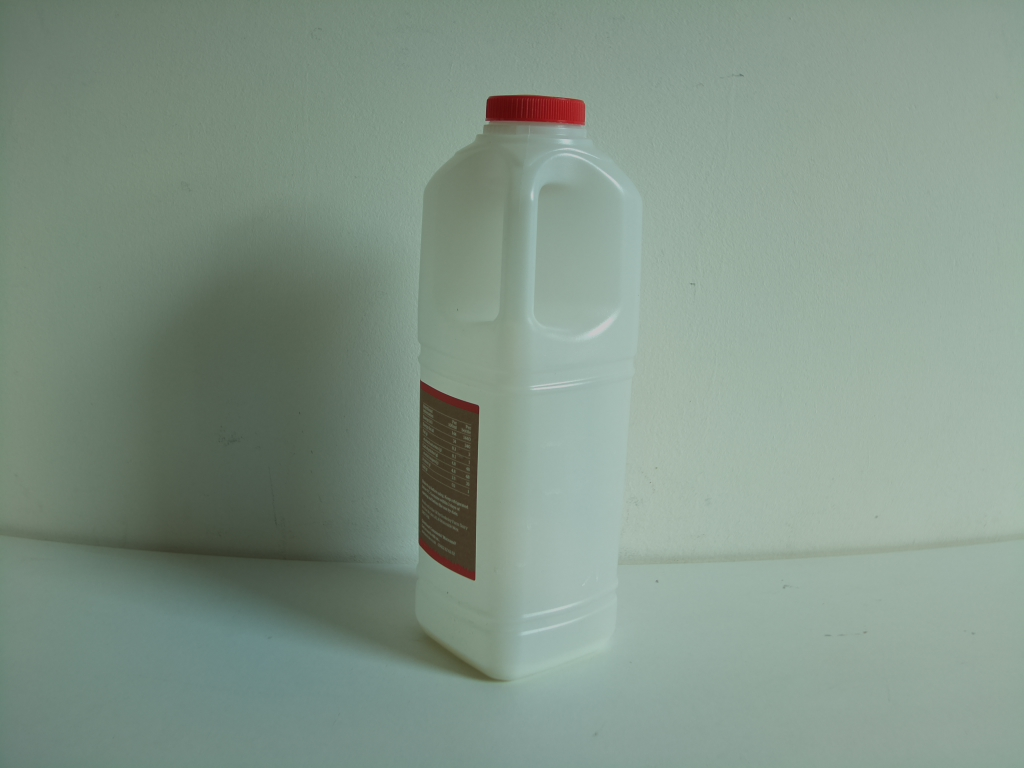milk: (403, 94, 652, 682)
